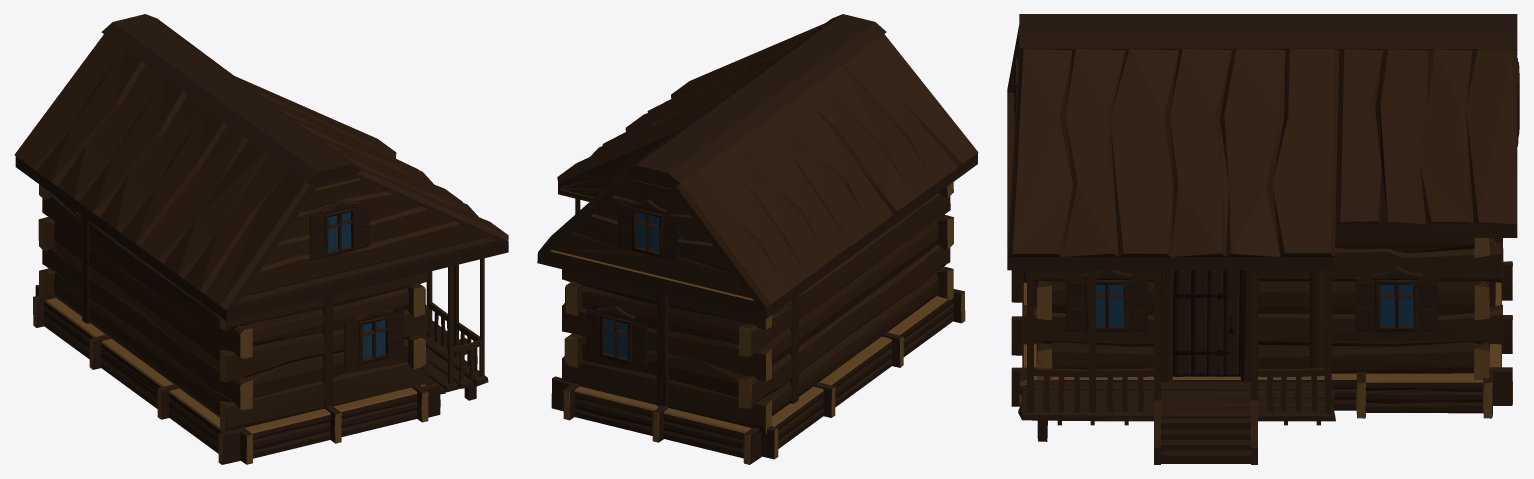
The model's file is house2.obj.
3 renders of one model, left to right at view 1: azimuth 30°, elevation 25°; view 2: azimuth 150°, elevation 25°; view 3: azimuth 270°, elevation 25°, orthographic. The views are drawn at different scales.
Parts seen in each view (by area): view 1: House_Cube.031; view 2: House_Cube.031; view 3: House_Cube.031.
Boxes of the visible parts, left/top/right/bottom form: House_Cube.031: left=14, top=14, right=508, bottom=464; House_Cube.031: left=537, top=14, right=978, bottom=464; House_Cube.031: left=1007, top=14, right=1519, bottom=464.
Bounding box in the file's own units: 3.14 × 2.67 × 3.76.
